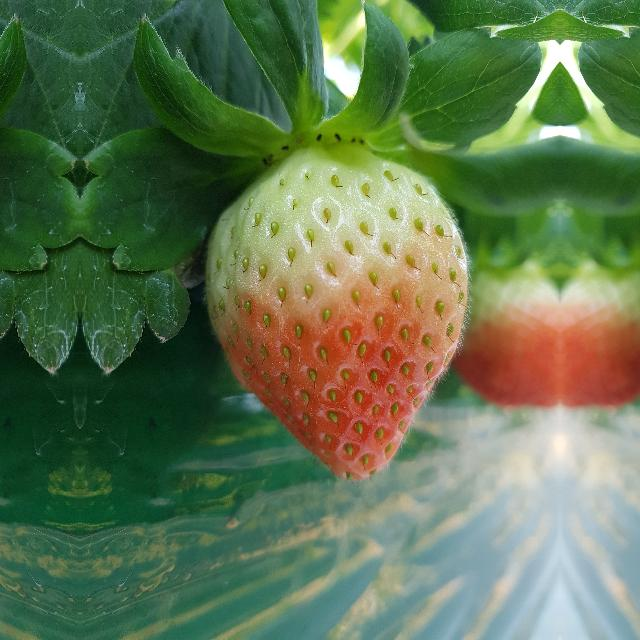Health_50: (201, 143, 471, 484)
